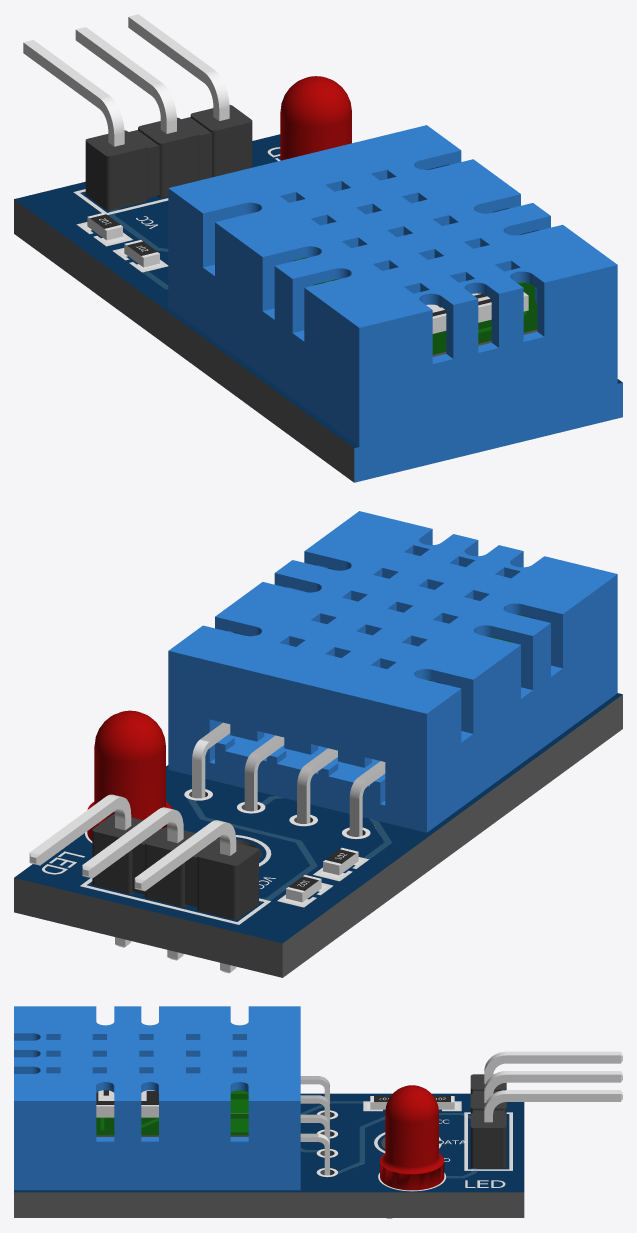
File: Temperature_Humidity Sensor DHT11.fbx
The picture shows the model from 3 angles, top to bottom: view 1: azimuth 30°, elevation 25°; view 2: azimuth 150°, elevation 25°; view 3: azimuth 270°, elevation 25°; orthographic projection. The views are drawn at different scales.
Parts seen in each view (by area): view 1: SOLID; view 2: SOLID; view 3: SOLID.
Boxes of the visible parts, bbox=[...] form: SOLID: bbox=[14, 14, 622, 482]; SOLID: bbox=[14, 511, 622, 977]; SOLID: bbox=[14, 1006, 622, 1218].
Size of the model in its own units: 8.41 by 5.5 by 22.
